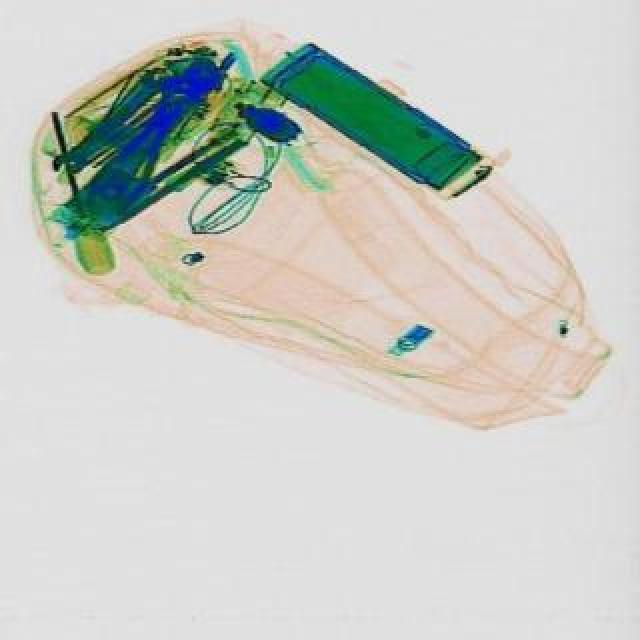scissors: (92, 54, 230, 216), (50, 70, 174, 186)
wrench: (82, 86, 208, 230)
